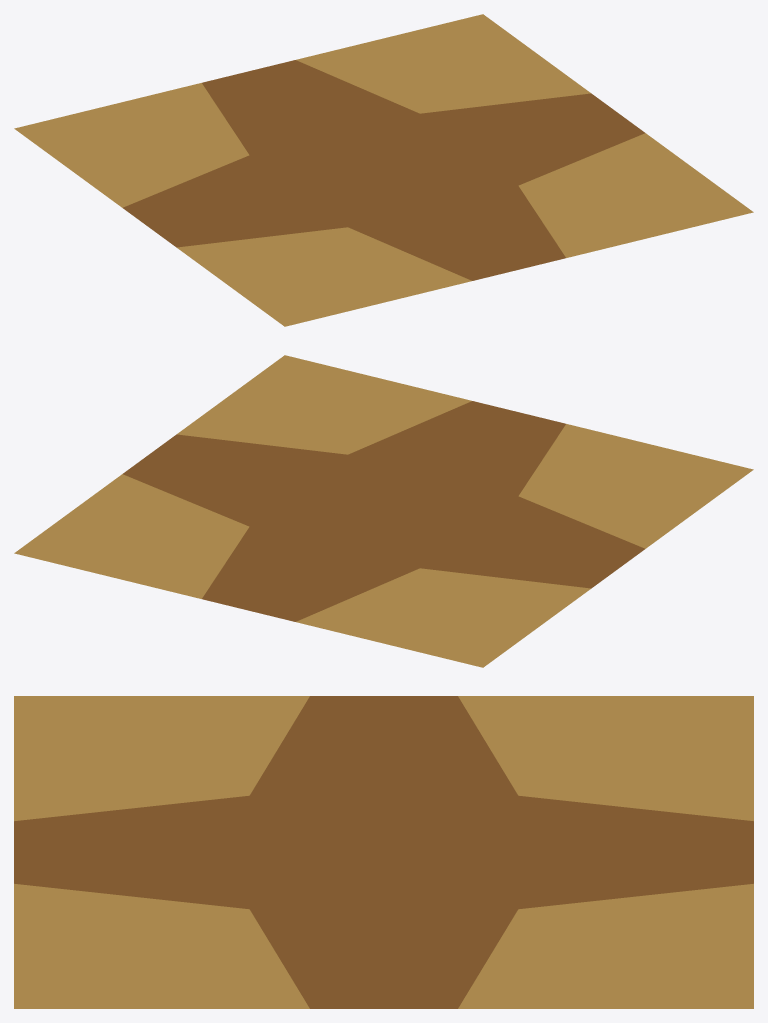
File: SA_Env_Sand_CrossPaths.fbx
3 renders of one model, top to bottom at view 1: azimuth 30°, elevation 25°; view 2: azimuth 150°, elevation 25°; view 3: azimuth 270°, elevation 25°, orthographic. The views are drawn at different scales.
Visible parts, largest first — view 1: SA_Env_Sand_CrossPaths; view 2: SA_Env_Sand_CrossPaths; view 3: SA_Env_Sand_CrossPaths.
Part boxes in pixels (x1,y1,x2,y2): SA_Env_Sand_CrossPaths: [14, 14, 753, 326]; SA_Env_Sand_CrossPaths: [14, 355, 753, 667]; SA_Env_Sand_CrossPaths: [14, 696, 753, 1008].
Size of the model in its own units: 15 by 0 by 15.
